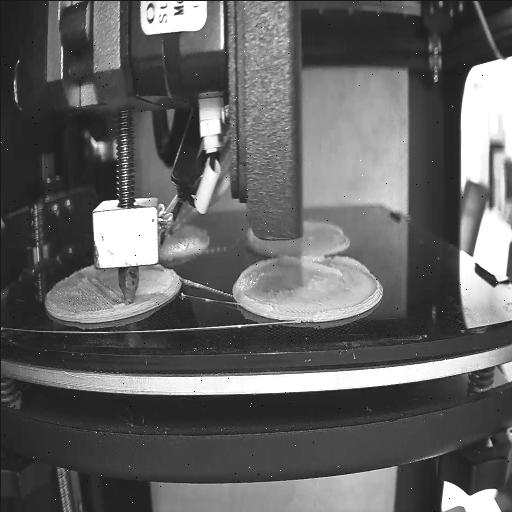over_extrusion: (234, 254, 280, 312), (284, 254, 370, 280)
